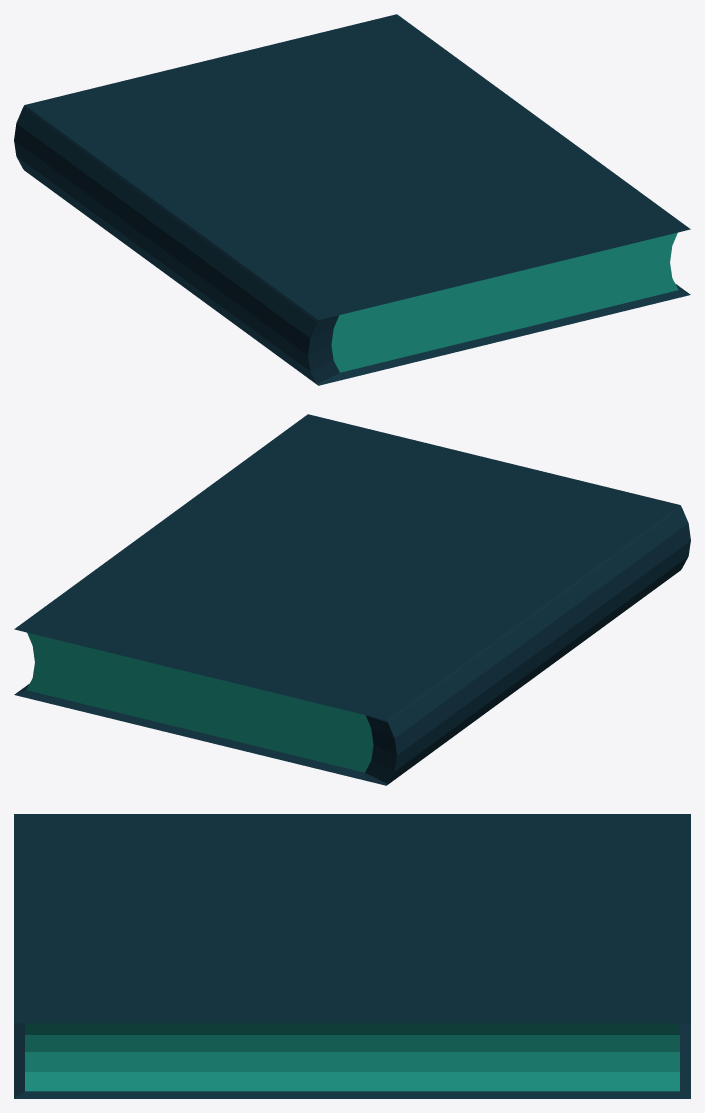
File: LibroSueltoUNO.fbx
The picture shows the model from 3 angles, top to bottom: view 1: azimuth 30°, elevation 25°; view 2: azimuth 150°, elevation 25°; view 3: azimuth 270°, elevation 25°; orthographic projection. The views are drawn at different scales.
Parts seen in each view (by area): view 1: Cube.006; view 2: Cube.006; view 3: Cube.006.
Part boxes in pixels (x1,y1,x2,y2): Cube.006: [14, 14, 690, 385]; Cube.006: [14, 414, 690, 785]; Cube.006: [14, 814, 690, 1098].
Bounding box in the file's own units: 150 × 24.6 × 200.
